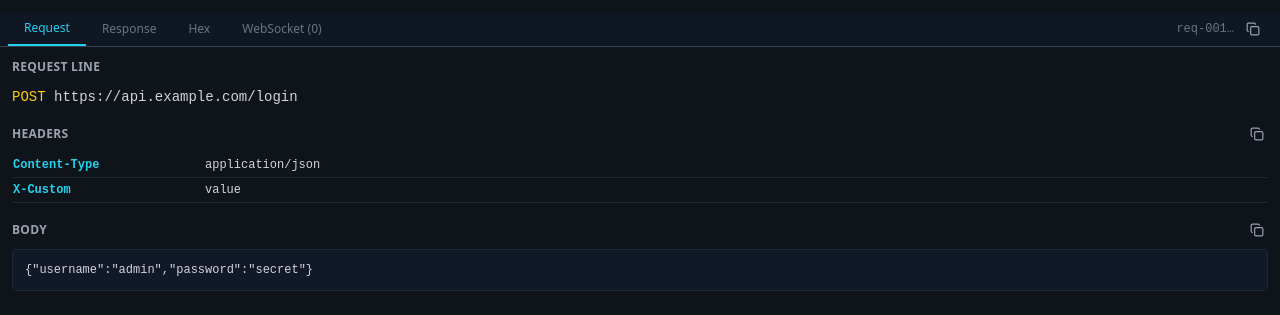
Test case: RequestDetail › switches to response tab
Click the button "Response" at (129, 29), box x1=86 y1=13 x2=172 y2=45
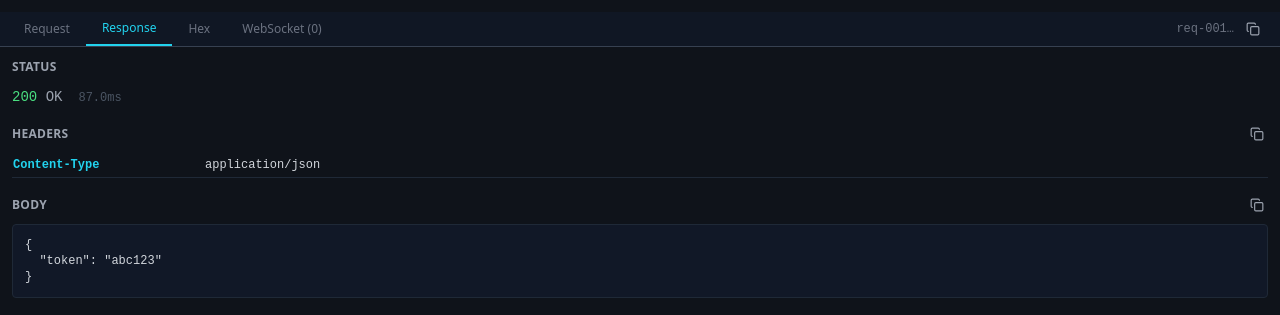
Now the text "200" is shown, box x1=12 y1=89 x2=37 y2=105
